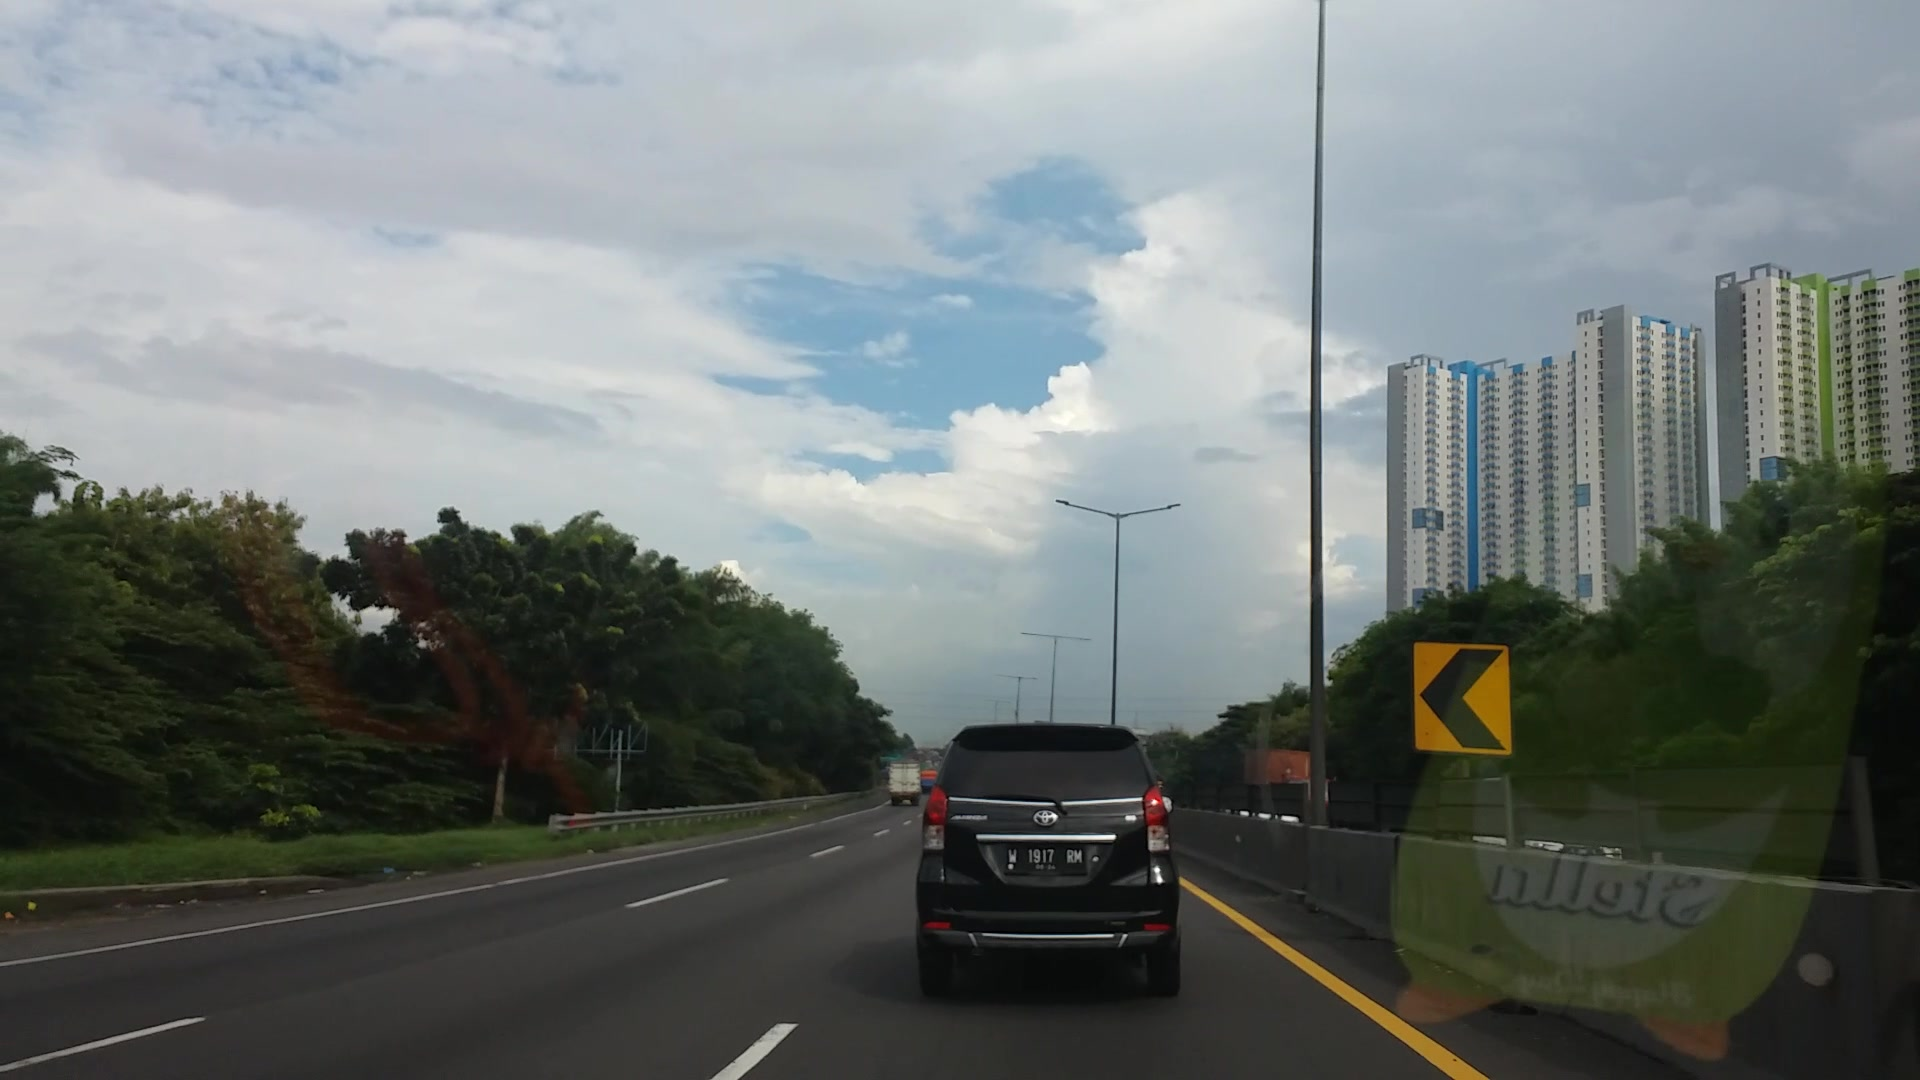plate_positive: (1004, 845, 1084, 872)
